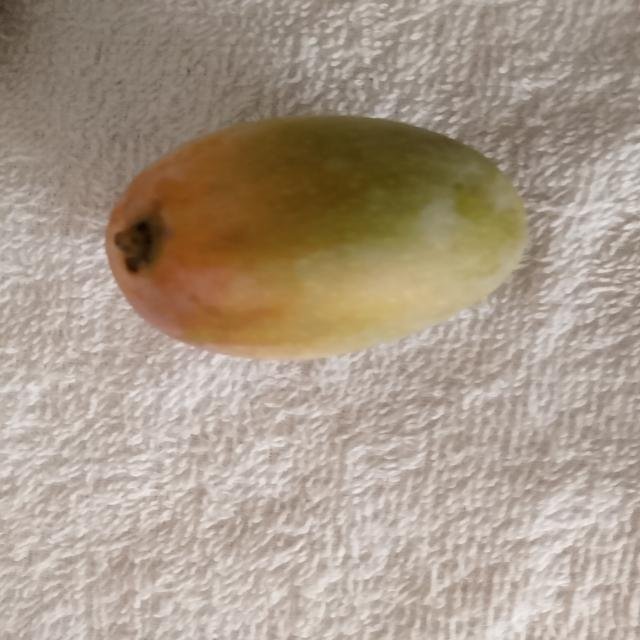mango: (107, 117, 526, 358)
